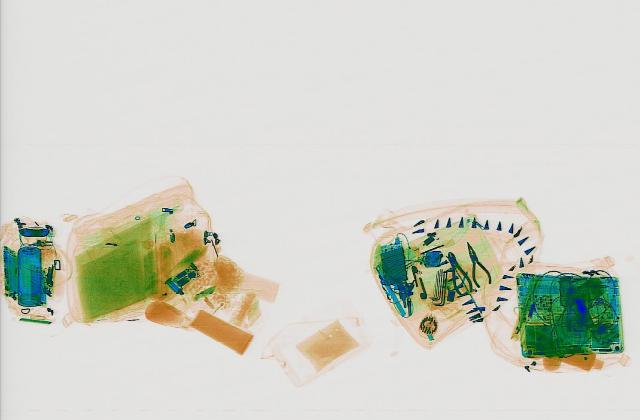Pliers: (456, 238, 494, 285), (438, 250, 477, 294)
